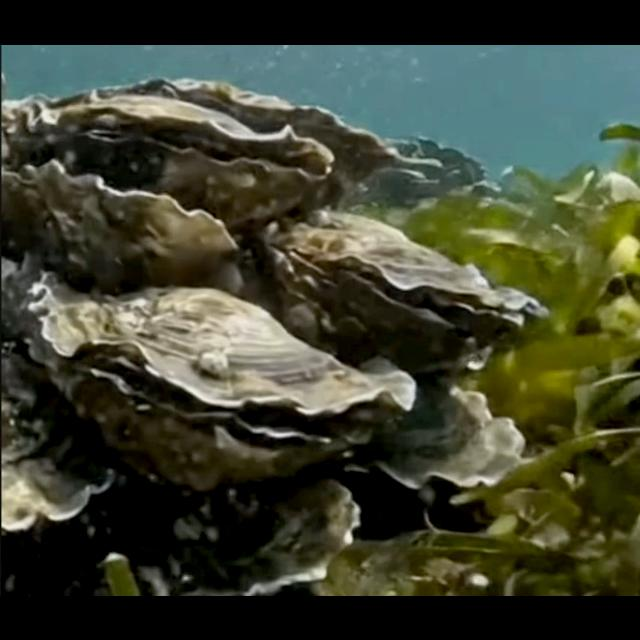Oyster-Closed: (94, 81, 396, 191), (0, 160, 236, 290), (126, 470, 358, 596), (0, 344, 114, 530), (338, 382, 522, 491)
Oyster-Open: (29, 272, 414, 482), (256, 210, 546, 372), (15, 98, 333, 228)
